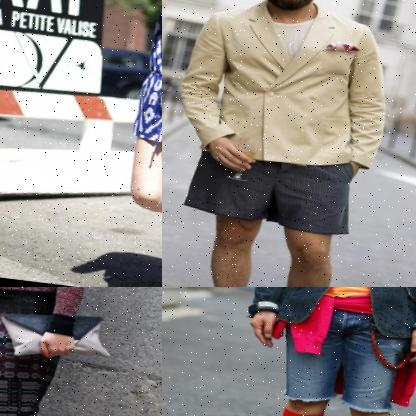jacket: (171, 0, 400, 174), (248, 287, 416, 347)
pants: (0, 287, 67, 416)
polar: (0, 287, 103, 340)
short: (179, 141, 357, 238), (271, 298, 408, 416)
